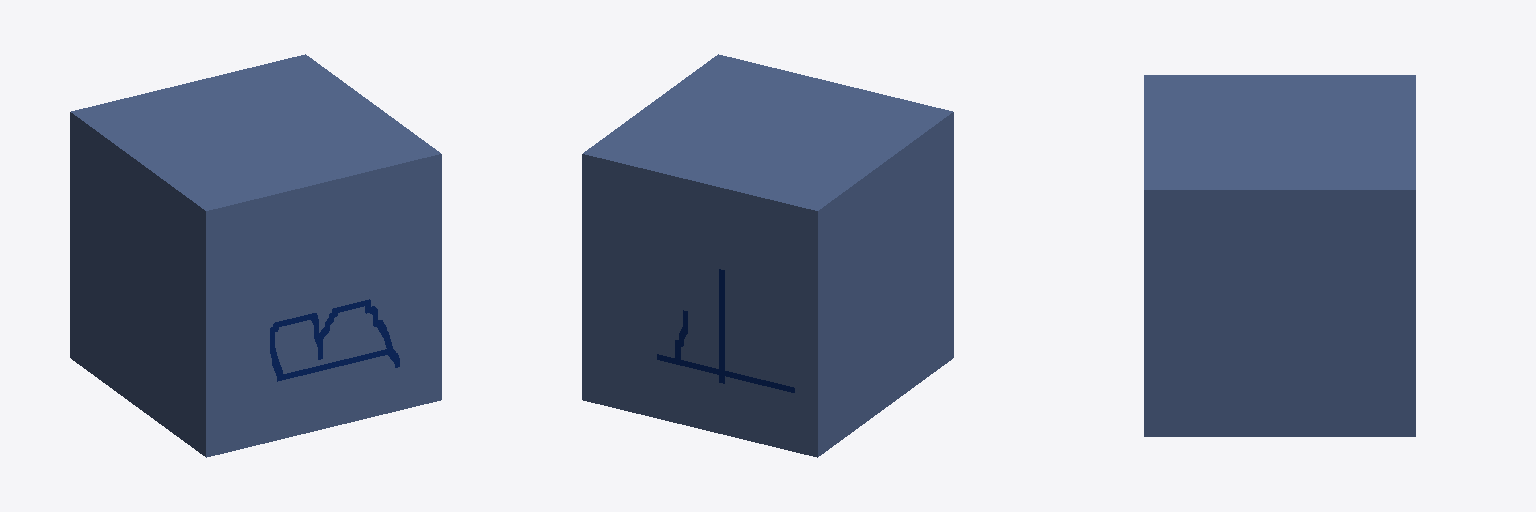
The picture shows the model from 3 angles: view 1: azimuth 30°, elevation 25°; view 2: azimuth 150°, elevation 25°; view 3: azimuth 270°, elevation 25°; orthographic projection.
Parts seen in each view (by area): view 1: Cube; view 2: Cube; view 3: Cube.
Boxes of the visible parts, x1,y1,x2,y2 form: Cube: [70, 54, 441, 457]; Cube: [582, 54, 953, 457]; Cube: [1144, 75, 1415, 436].
Bounding box in the file's own units: 2 × 2 × 2.
Materials: 1 (1 with a texture image).